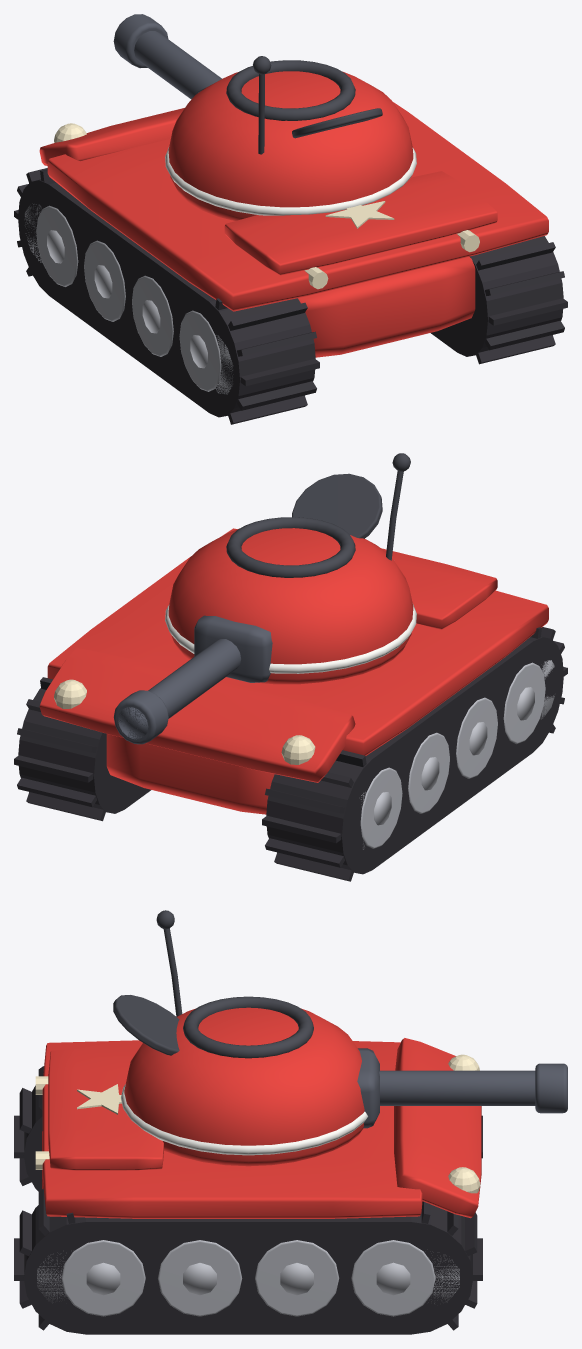
File: TanksTank.obj
3 renders of one model, top to bottom at view 1: azimuth 30°, elevation 25°; view 2: azimuth 150°, elevation 25°; view 3: azimuth 270°, elevation 25°, orthographic.
Visible parts, largest first — view 1: Body, Tracks, Turret, Wheels, Hatch, Barrel, Badge, Trim; view 2: Body, Tracks, Turret, Wheels, Barrel, Hatch, Badge, Trim; view 3: Body, Tracks, Turret, Wheels, Barrel, Hatch, Badge, Trim.
Part boxes in pixels (<box>): Body: <box>39,102,548,357</box>; Tracks: <box>14,168,567,424</box>; Turret: <box>168,71,413,220</box>; Wheels: <box>24,203,233,394</box>; Hatch: <box>226,56,382,154</box>; Barrel: <box>113,14,221,99</box>; Badge: <box>165,146,416,215</box>; Trim: <box>54,123,479,289</box>; Body: <box>39,528,548,814</box>; Tracks: <box>14,627,567,881</box>; Turret: <box>168,528,413,684</box>; Wheels: <box>360,660,554,849</box>; Barrel: <box>113,615,272,744</box>; Hatch: <box>226,453,410,577</box>; Badge: <box>165,603,416,673</box>; Trim: <box>54,679,315,764</box>; Body: <box>42,1038,481,1218</box>; Tracks: <box>14,1066,482,1334</box>; Turret: <box>124,1007,364,1166</box>; Wheels: <box>37,1240,459,1316</box>; Barrel: <box>357,1048,567,1128</box>; Hatch: <box>113,910,313,1058</box>; Badge: <box>121,1084,367,1155</box>; Trim: <box>35,1054,480,1193</box>.
Bounding box in the file's own units: 6.48 × 5.76 × 9.36.
